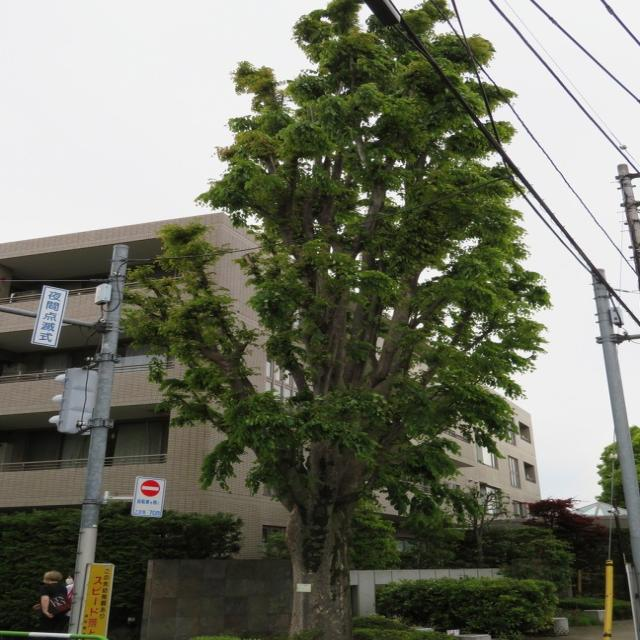zelkova: (120, 0, 554, 640)
